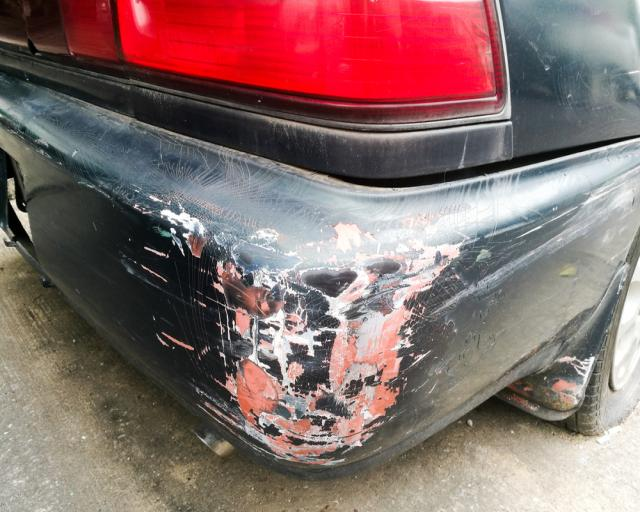scratch: (145, 167, 640, 473)
